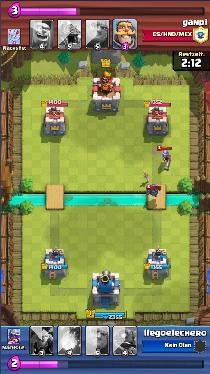enemy_mini_pekka: (147, 185, 161, 197)
enemy_musketeer: (160, 149, 172, 171)
